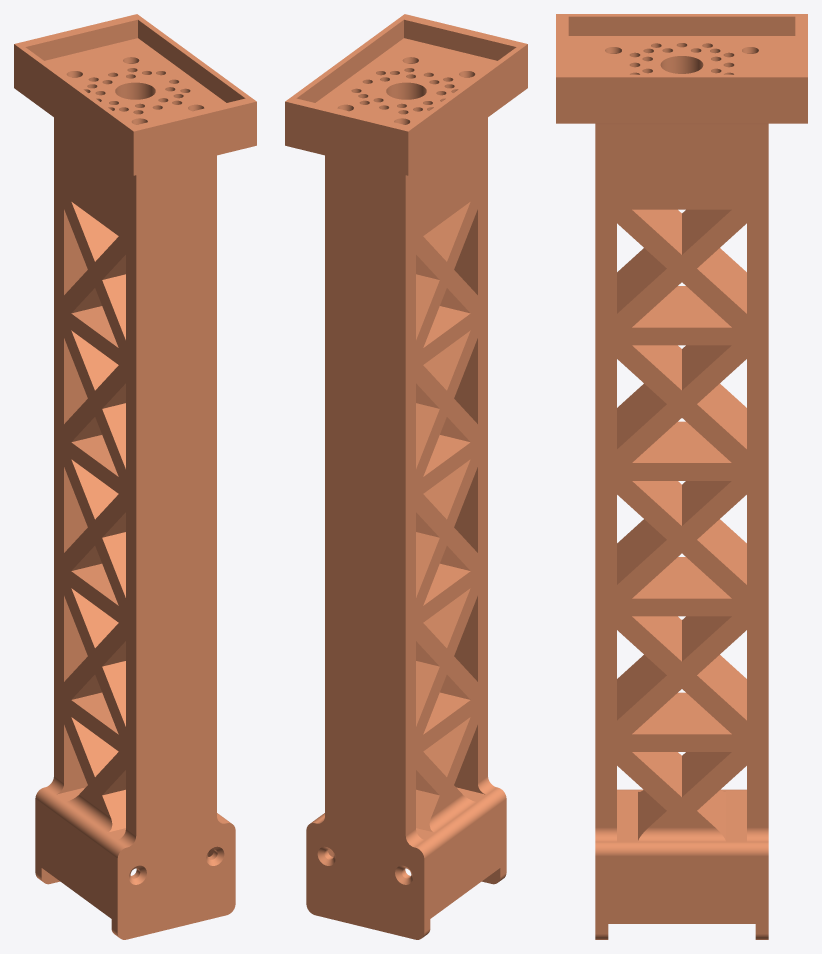
File: Right Arm - Part 2 (1).gltf
3 views of the same model, side by side, from view 1: azimuth 30°, elevation 25°; view 2: azimuth 150°, elevation 25°; view 3: azimuth 270°, elevation 25° (orthographic). The views are drawn at different scales.
Parts seen in each view (by area): view 1: Part 2; view 2: Part 2; view 3: Part 2.
Boxes of the visible parts, x1,y1,x2,y2 form: Part 2: (14,14,256,939); Part 2: (285,14,527,939); Part 2: (556,14,807,939).
Bounding box in the file's own units: 0.035 × 0.224 × 0.0589.
